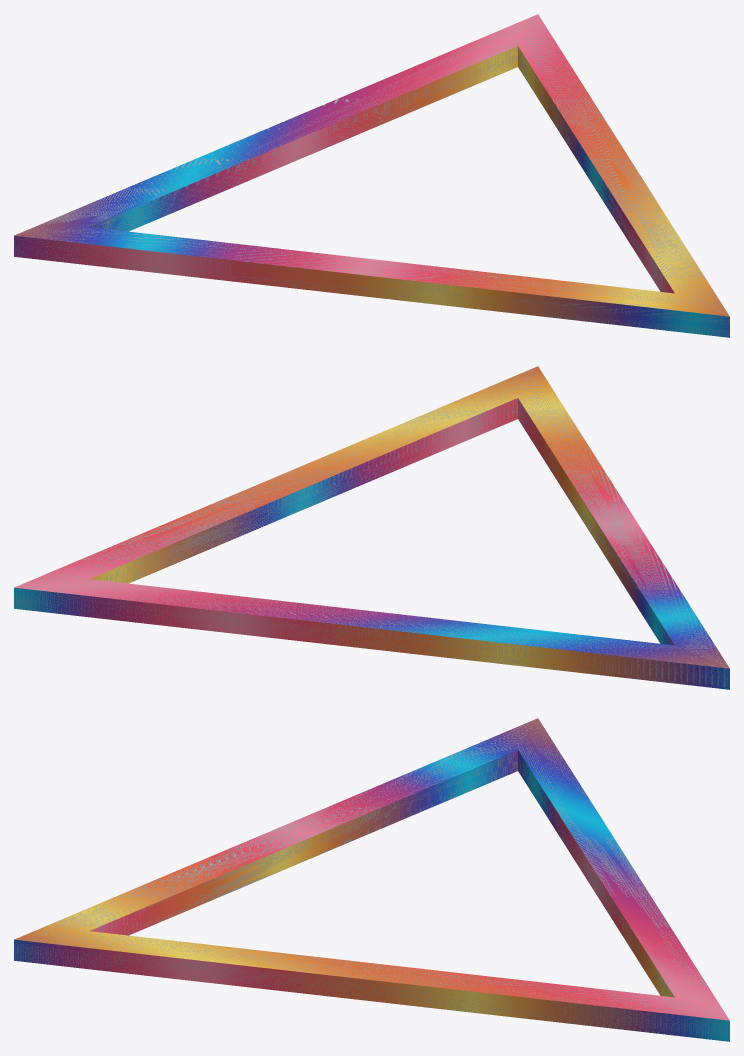
File: fh-triangle-1.fbx
The picture shows the model from 3 angles, top to bottom: view 1: azimuth 30°, elevation 25°; view 2: azimuth 150°, elevation 25°; view 3: azimuth 270°, elevation 25°; orthographic projection.
Parts seen in each view (by area): view 1: triangle_6_1; view 2: triangle_6_1; view 3: triangle_6_1.
Part boxes in pixels (box(x1,y1,x2,y2)): triangle_6_1: box(14, 14, 729, 337); triangle_6_1: box(14, 366, 729, 689); triangle_6_1: box(14, 718, 729, 1041).
Bounding box in the file's own units: 920 × 30 × 920.
